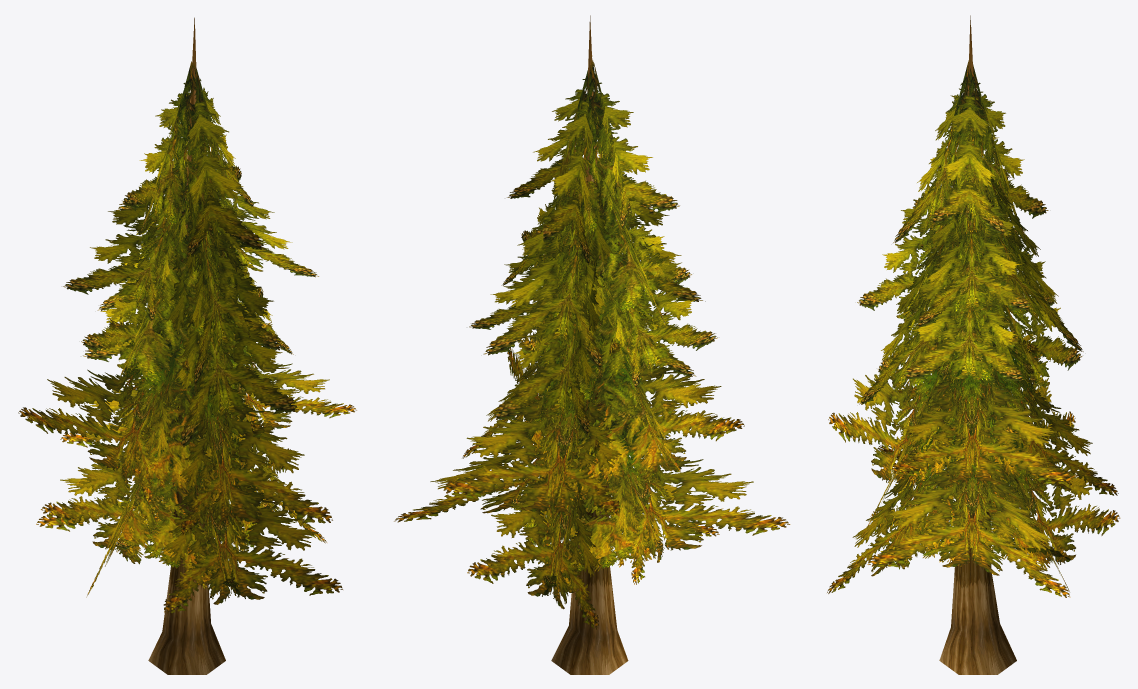
Rendered from alteractree03.obj.
3 views of the same model, side by side, from view 1: azimuth 30°, elevation 25°; view 2: azimuth 150°, elevation 25°; view 3: azimuth 270°, elevation 25° (orthographic).
Visible parts, largest first — view 1: ALTERACTREE031, ALTERACTREE030; view 2: ALTERACTREE031, ALTERACTREE030; view 3: ALTERACTREE031, ALTERACTREE030.
Part boxes in pixels (bbox=[...]): ALTERACTREE031: bbox=[18, 56, 356, 613]; ALTERACTREE030: bbox=[148, 17, 225, 674]; ALTERACTREE031: bbox=[394, 55, 790, 629]; ALTERACTREE030: bbox=[551, 15, 628, 674]; ALTERACTREE031: bbox=[827, 60, 1120, 597]; ALTERACTREE030: bbox=[939, 15, 1016, 674].
Size of the model in its own units: 45.26 by 90.28 by 37.89.
2 materials, 2 textured.
